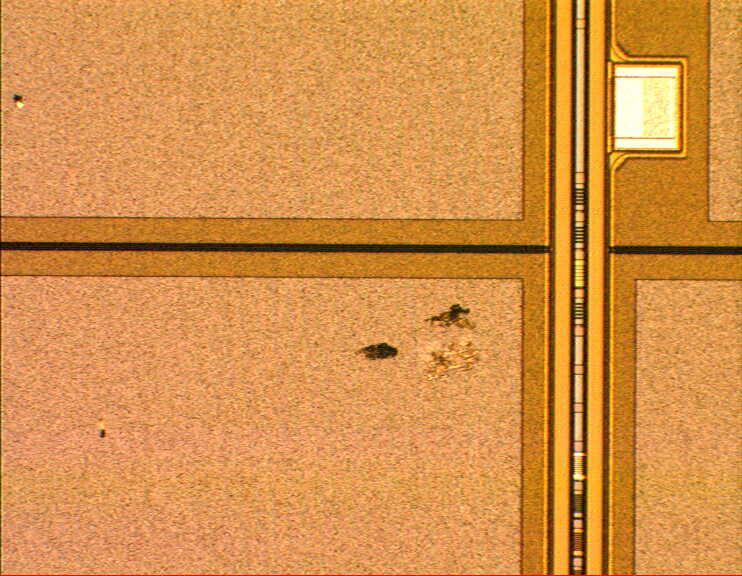SCRATCH: (333, 296, 489, 388)
